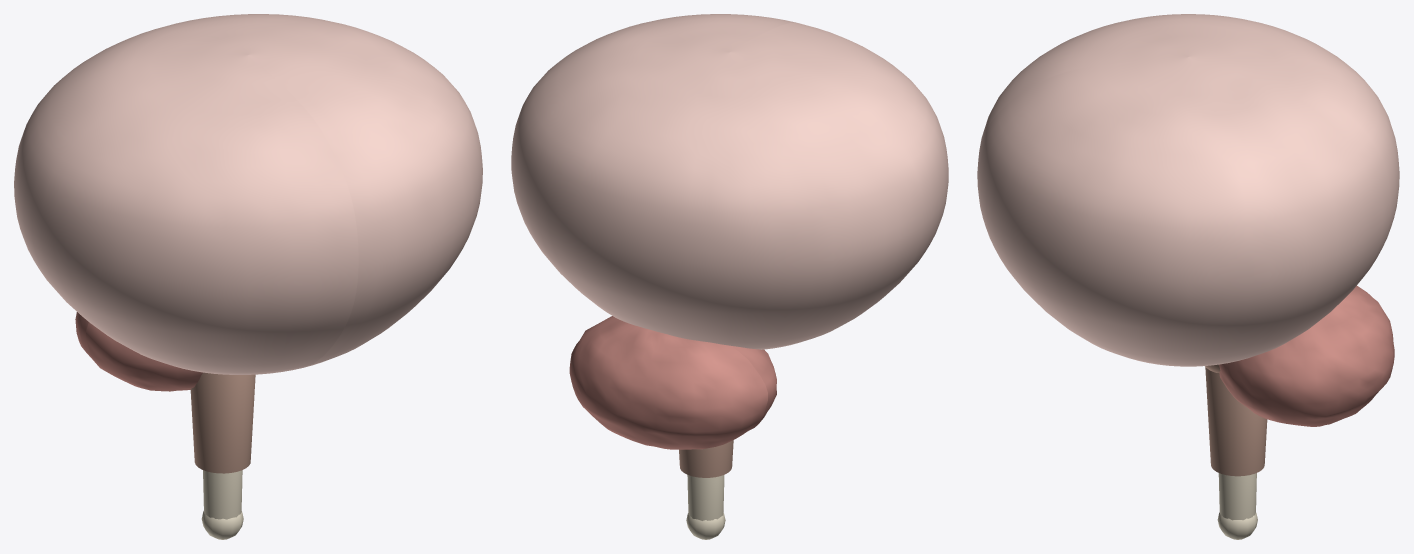
The model's file is brain.glb.
The picture shows the model from 3 angles, left to right: view 1: azimuth 30°, elevation 25°; view 2: azimuth 150°, elevation 25°; view 3: azimuth 270°, elevation 25°; orthographic projection. The views are drawn at different scales.
Parts seen in each view (by area): view 1: meninges, brainstem, cerebellum, spinal_cord; view 2: meninges, cerebellum, spinal_cord, brainstem; view 3: meninges, cerebellum, brainstem, spinal_cord.
Part boxes in pixels (<box>): meninges: <box>14,14,482,374</box>; brainstem: <box>190,372,255,473</box>; cerebellum: <box>75,312,202,391</box>; spinal_cord: <box>201,470,243,539</box>; meninges: <box>511,14,948,349</box>; cerebellum: <box>569,316,776,449</box>; spinal_cord: <box>686,475,725,539</box>; brainstem: <box>679,440,733,477</box>; meninges: <box>977,14,1399,366</box>; cerebellum: <box>1219,285,1394,426</box>; brainstem: <box>1205,364,1267,476</box>; spinal_cord: <box>1217,473,1257,539</box>.
Bounding box in the file's own units: 2.04 × 2.37 × 1.88.
